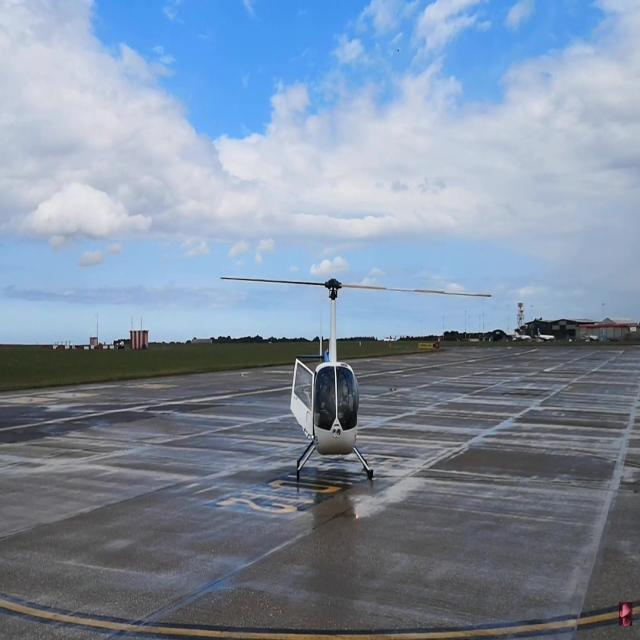CIV_HELO: (288, 276, 375, 481)
